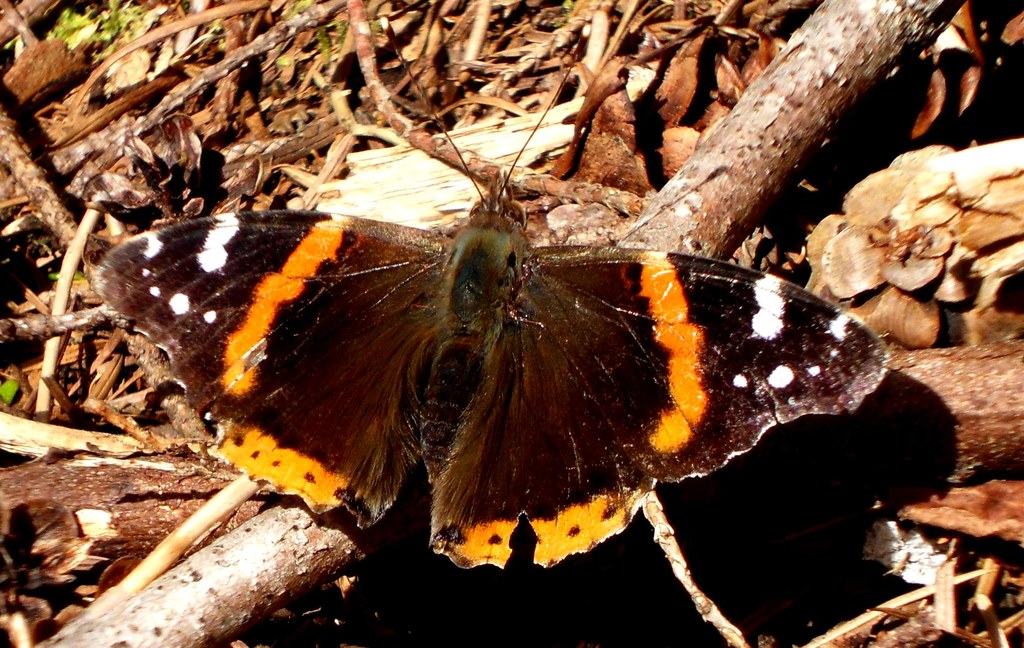Butterfly: (98, 152, 872, 606)
